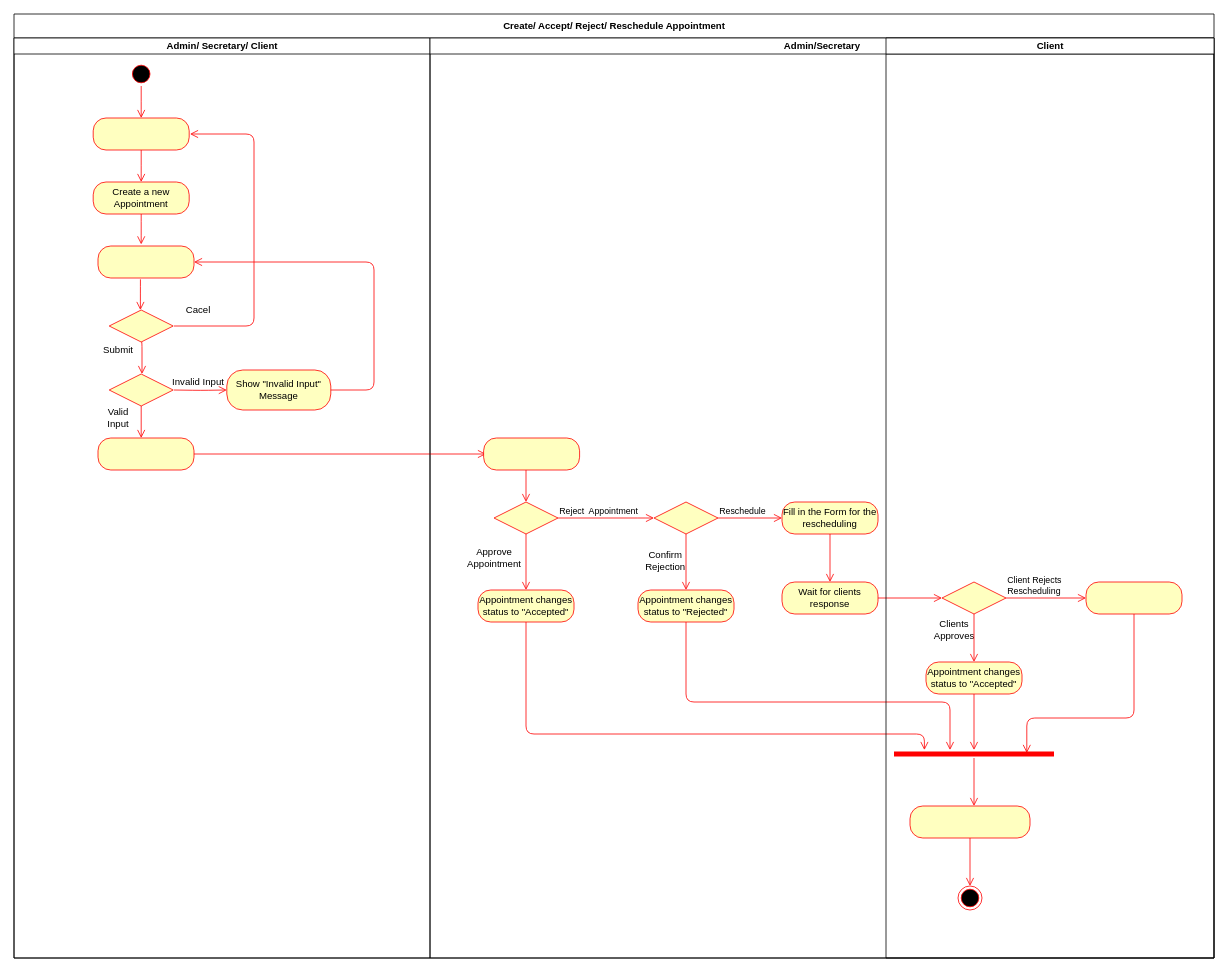
Image size: 1228x972. Some labels were removed from this diagram. The centre of each missing label's shape, as x and y in pixels:
"Appointment is created & gets a Pending Status" goes at (145,453).
"Appointment is deleted from the database" goes at (1133,597).
"Back to Dashboard/Appointments" goes at (969,821).
"Fill in the Form" goes at (145,261).
"Go to Dashboard/ Appointments" goes at (140,133).
"Select Pending Appointment" goes at (531,453).
